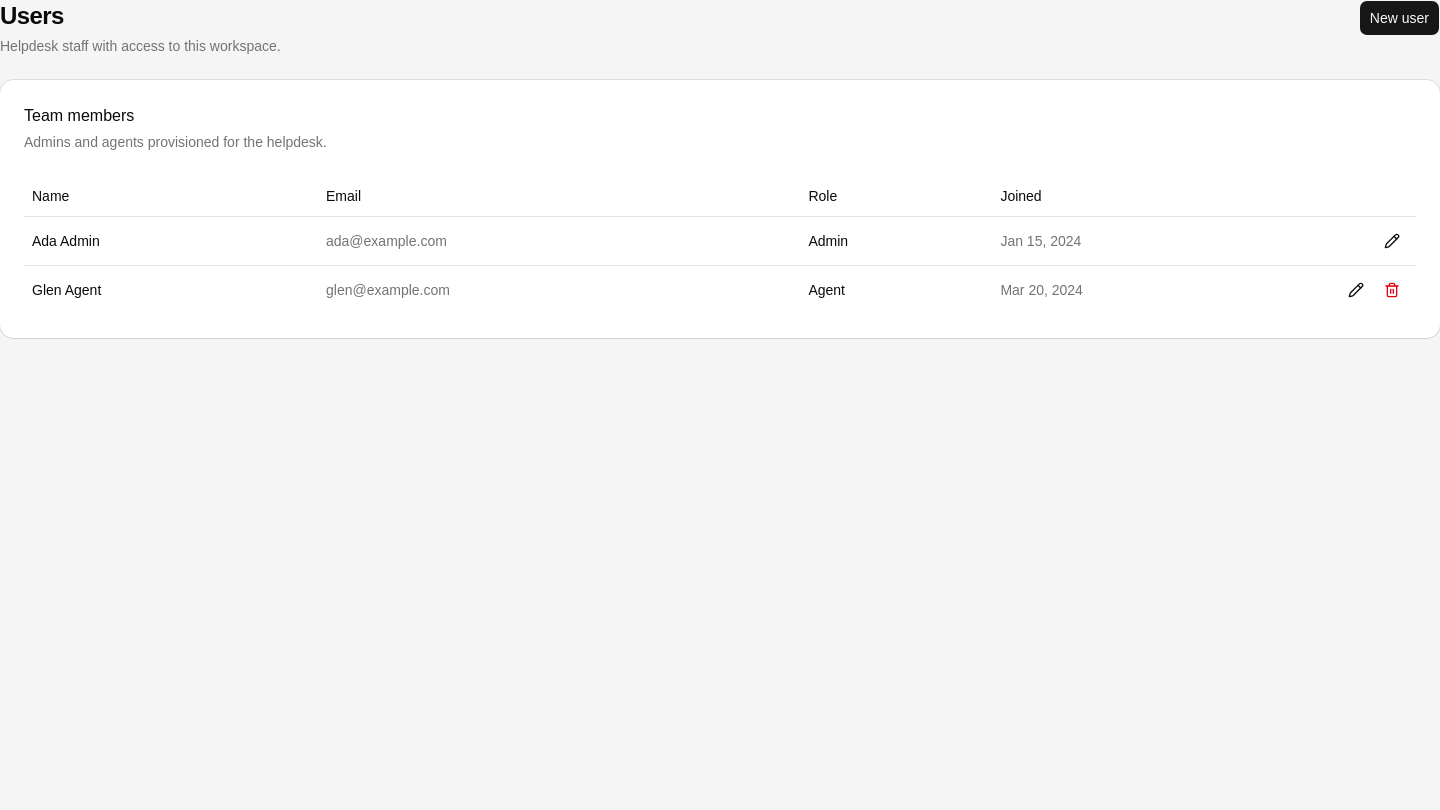
Test: UsersPage — create user dialog › shows the dialog when the New user button is clicked
The width and height of the screenshot is (1440, 810).
Expected: the text "Ada Admin" is shown, 32,232 -> 100,248
Click the button "New user" at coordinates (1399, 18), box 1359,0 -> 1439,36
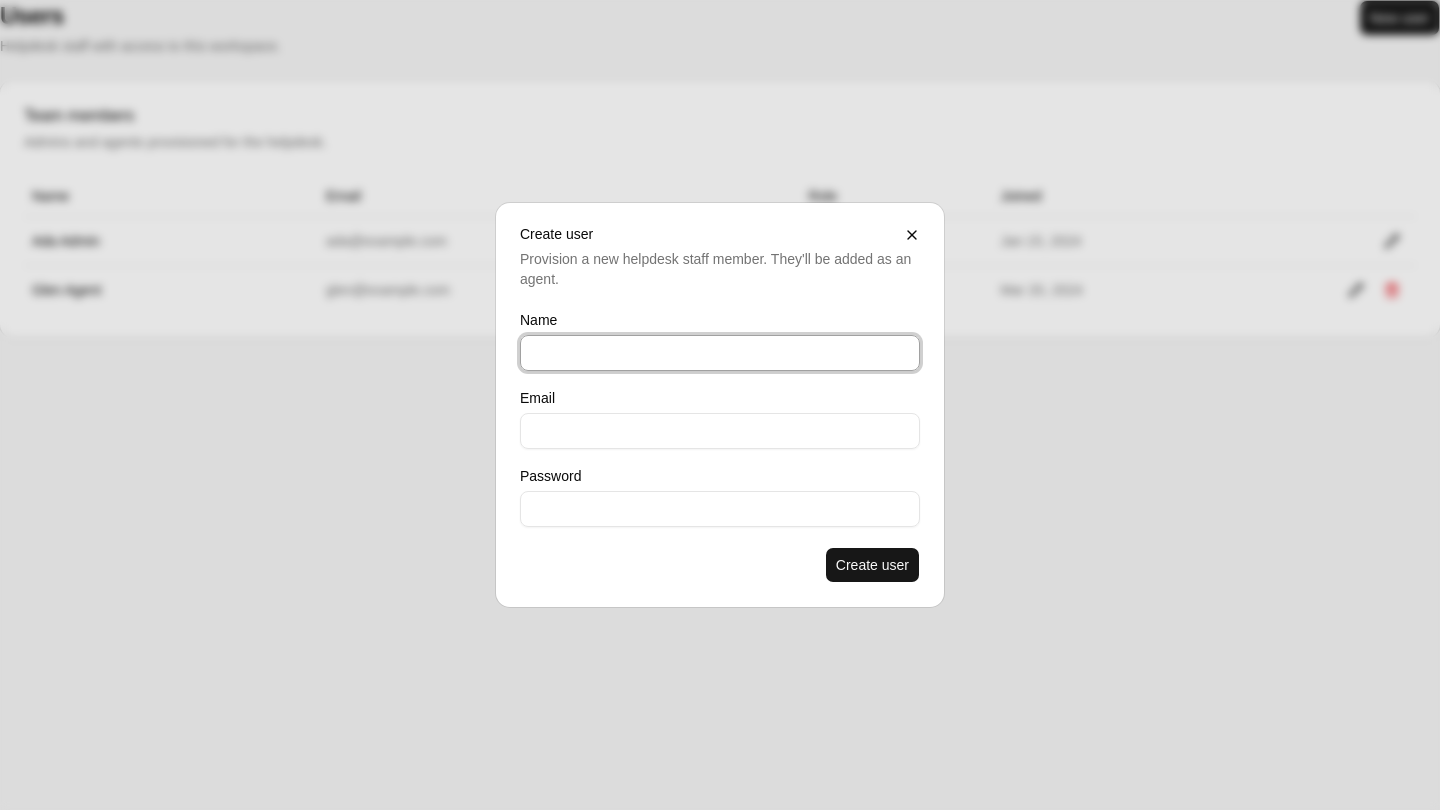
Expected: the heading "Create user" is shown, 520,226 -> 593,242
